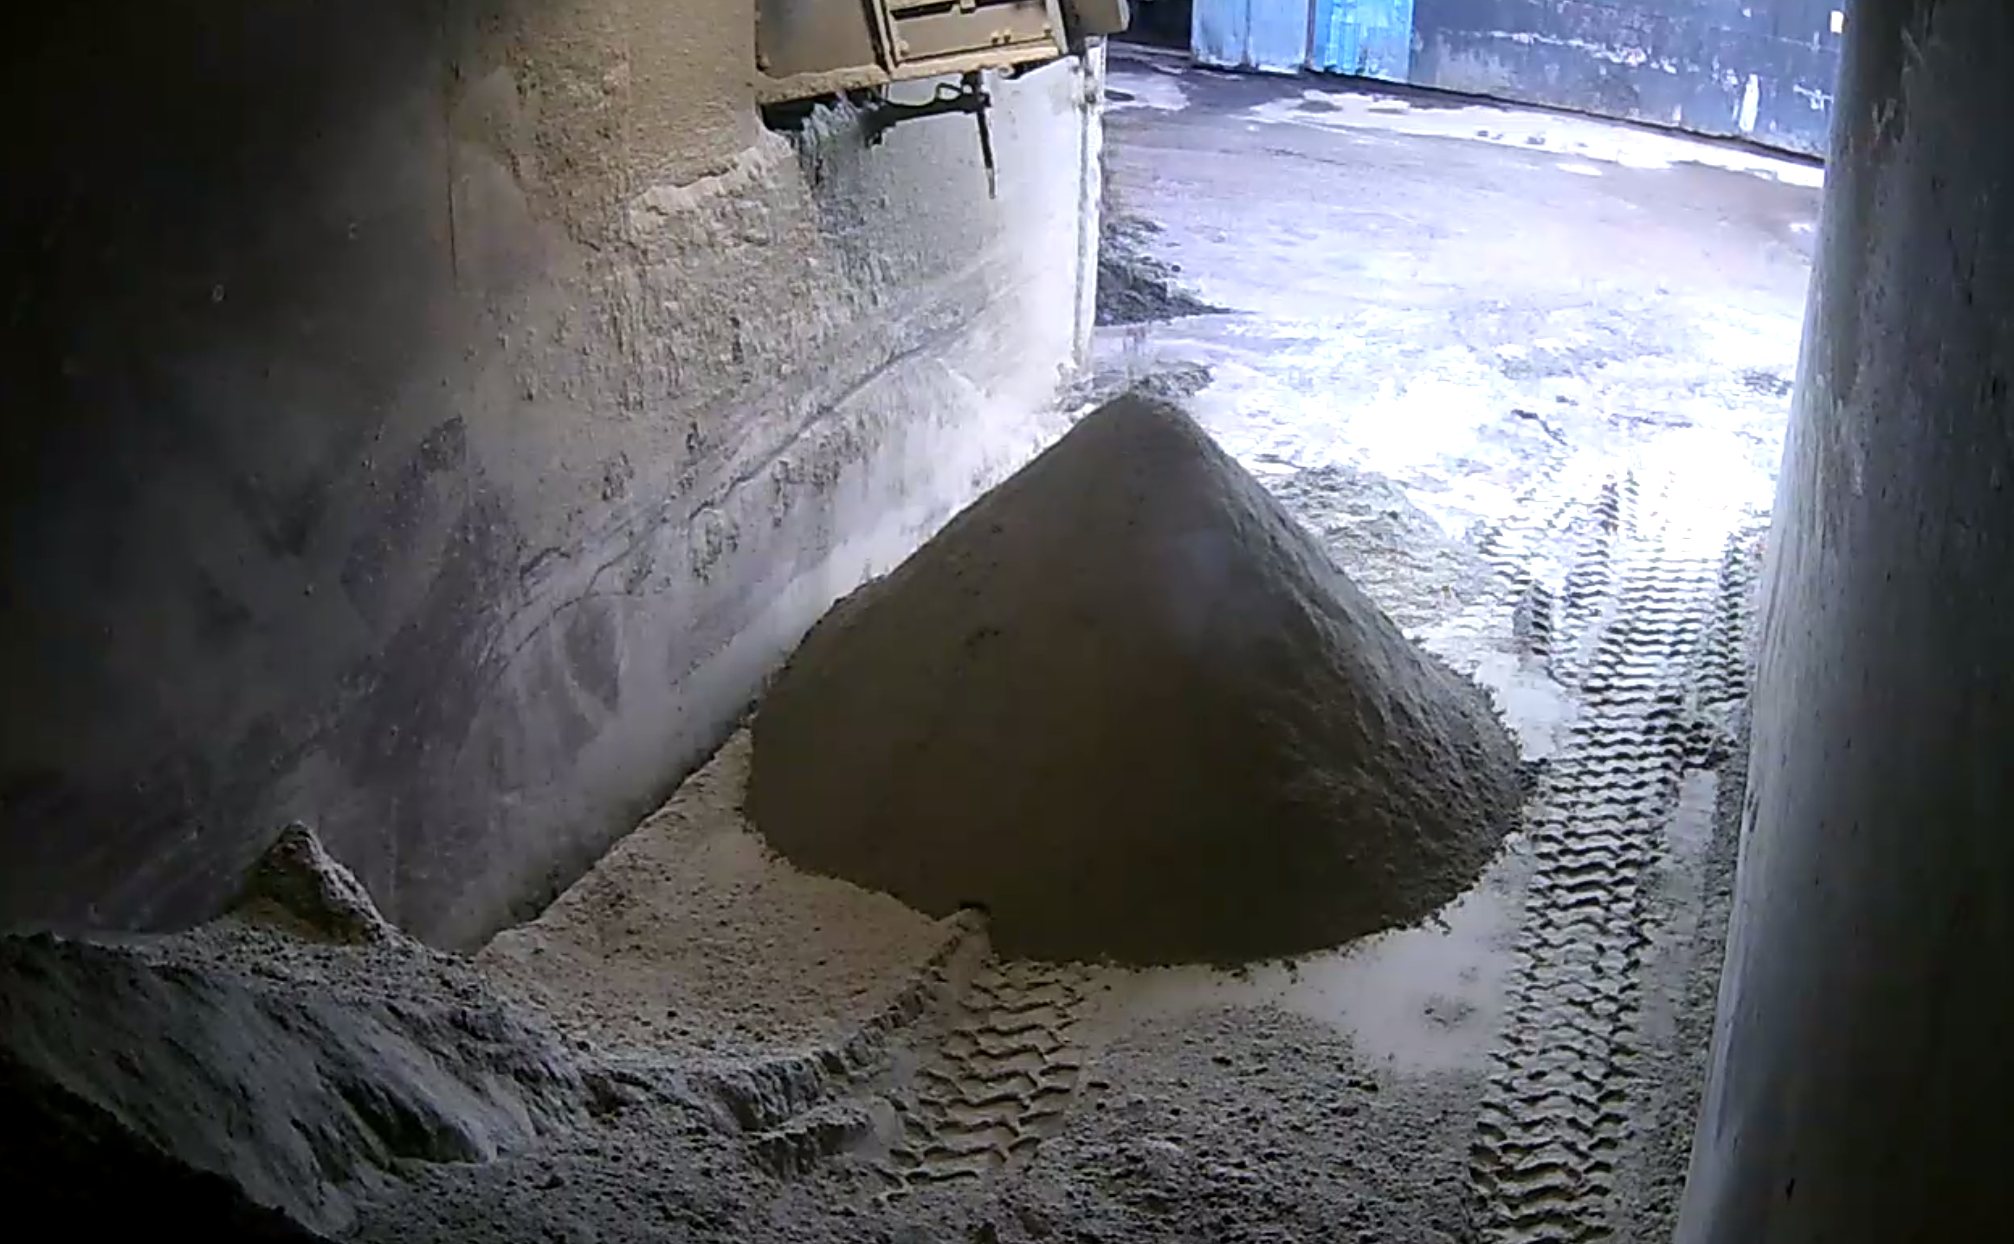pile: (745, 388, 1525, 977)
